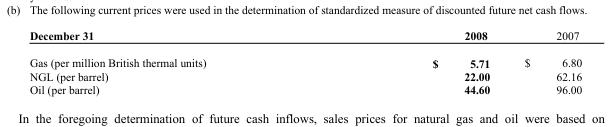table: (28, 28, 581, 95)
table column: (28, 28, 318, 95), (318, 28, 506, 95), (506, 28, 581, 95)
table column header: (28, 28, 581, 49)
table row: (28, 28, 581, 49), (28, 49, 581, 69), (28, 69, 581, 82), (28, 82, 581, 95)
